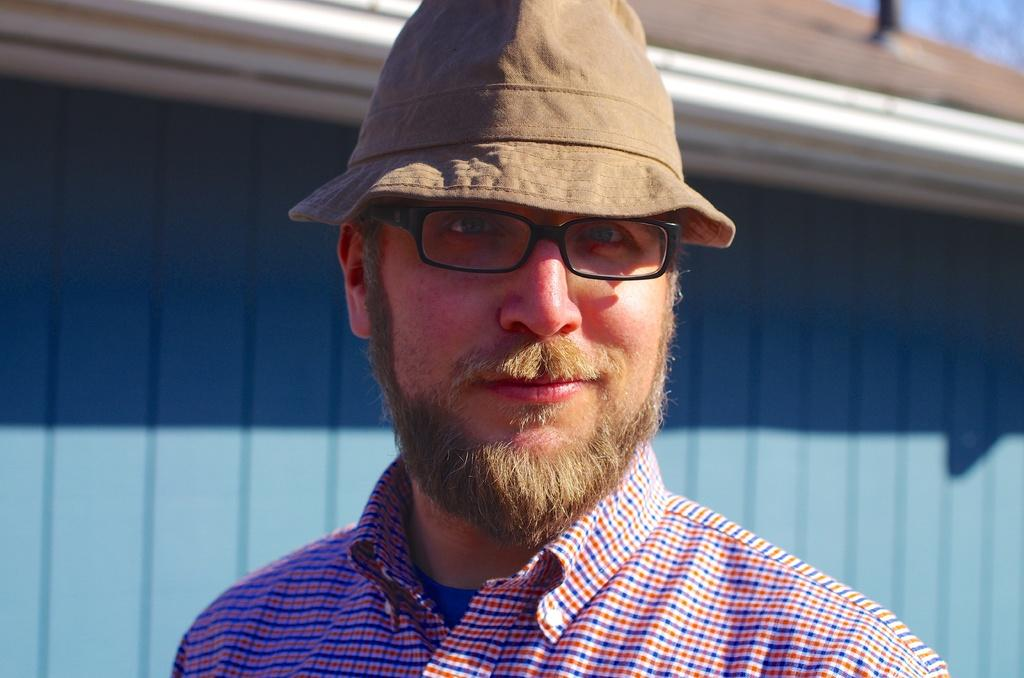Hat: (288, 0, 737, 250)
